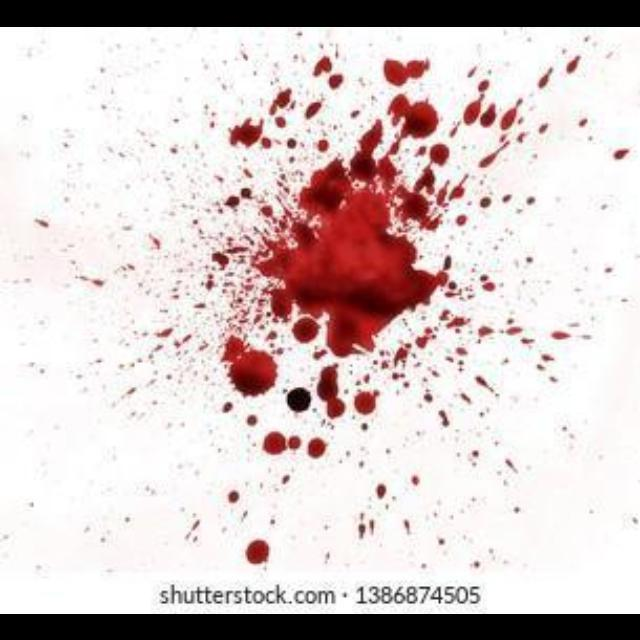blood: (256, 93, 464, 356), (340, 282, 556, 446), (225, 87, 306, 322), (92, 261, 210, 370), (449, 76, 552, 168), (204, 247, 283, 349), (222, 328, 279, 394), (176, 93, 237, 142), (319, 366, 346, 417), (386, 57, 432, 84), (315, 55, 344, 88), (264, 433, 302, 455), (420, 536, 453, 557), (287, 389, 313, 413), (355, 391, 379, 415), (359, 513, 376, 539), (432, 144, 451, 163), (308, 439, 327, 457), (212, 251, 231, 268), (539, 66, 555, 86), (405, 522, 422, 538), (567, 53, 580, 71), (150, 234, 164, 249), (378, 483, 384, 499), (122, 225, 133, 231)
